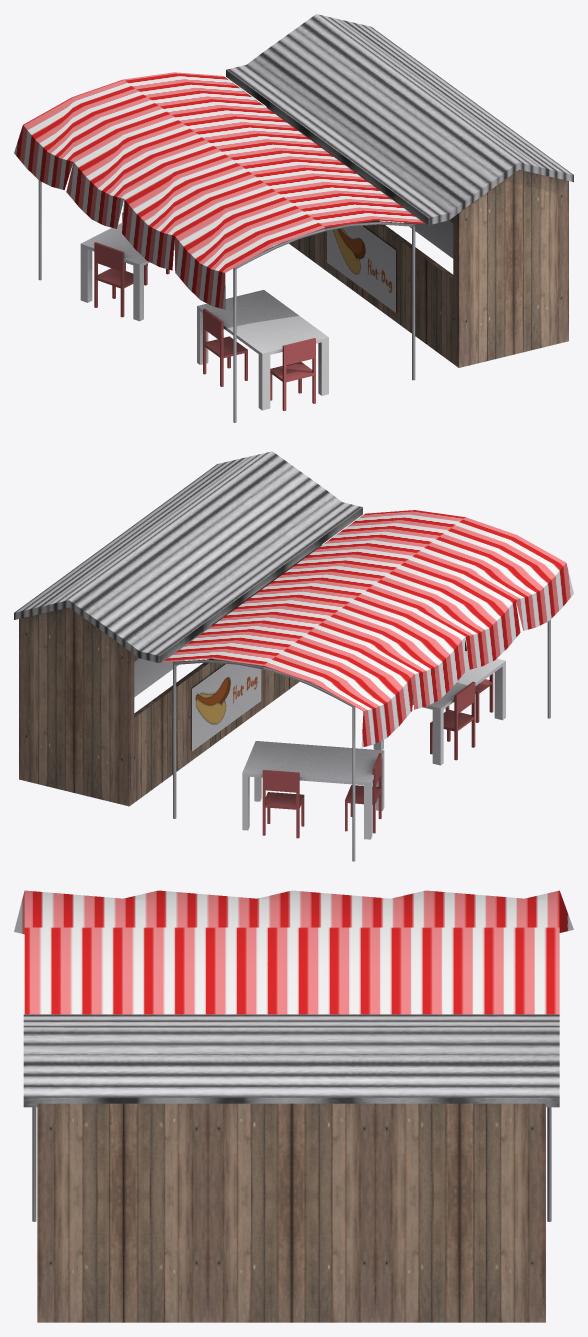
The model's file is Hot-Dog.fbx.
The picture shows the model from 3 angles, top to bottom: view 1: azimuth 30°, elevation 25°; view 2: azimuth 150°, elevation 25°; view 3: azimuth 270°, elevation 25°; orthographic projection. The views are drawn at different scales.
Parts seen in each view (by area): view 1: Object003, Object002; view 2: Object003, Object002; view 3: Object003, Object002.
Part boxes in pixels (bbox=[...]): Object003: bbox=[23, 14, 573, 367]; Object002: bbox=[14, 125, 415, 422]; Object003: bbox=[14, 451, 573, 806]; Object002: bbox=[172, 619, 550, 861]; Object003: bbox=[14, 890, 559, 1322]; Object002: bbox=[32, 891, 573, 1221].
Size of the model in its own units: 63.13 by 34.06 by 65.81.
